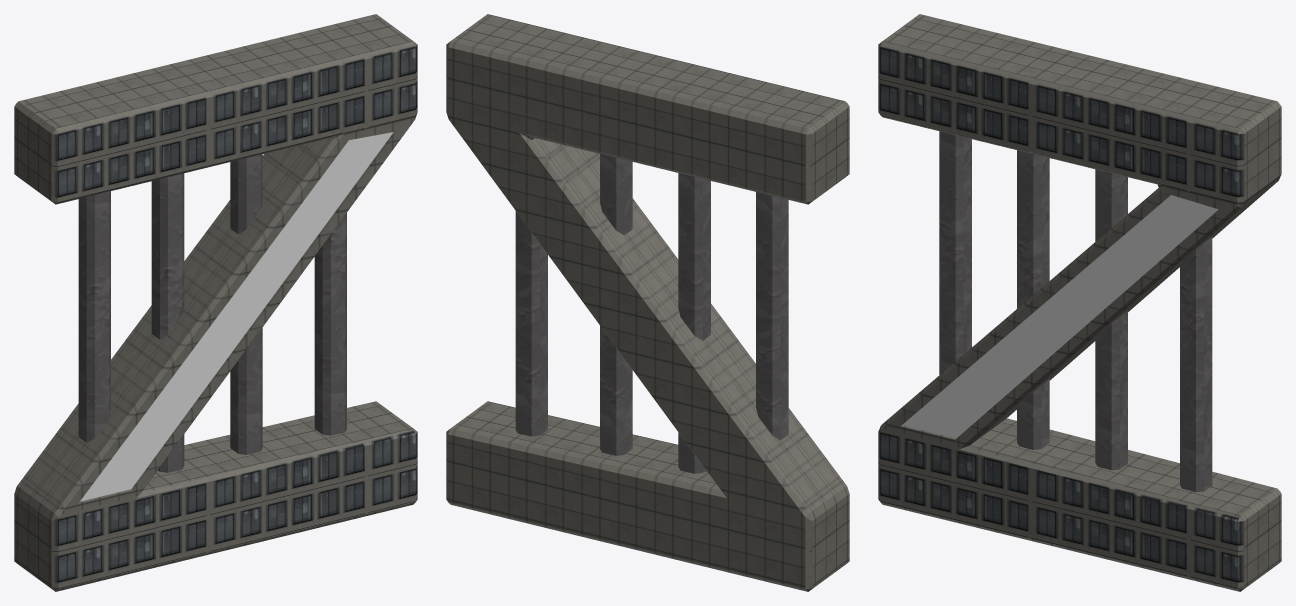
The model's file is ZVZVZVZVZV.fbx.
3 renders of one model, left to right at view 1: azimuth 30°, elevation 25°; view 2: azimuth 150°, elevation 25°; view 3: azimuth 330°, elevation 25°, orthographic.
Parts seen in each view (by area): view 1: Cube, Cube.004; view 2: Cube; view 3: Cube, Cube.004.
Part boxes in pixels (x1,y1,x2,y2): Cube: [14, 14, 417, 591]; Cube.004: [80, 132, 393, 501]; Cube: [446, 14, 849, 591]; Cube: [878, 14, 1281, 591]; Cube.004: [902, 195, 1218, 438].
Size of the model in its own units: 1008 by 1219 by 200.
3 materials, 2 textured.
